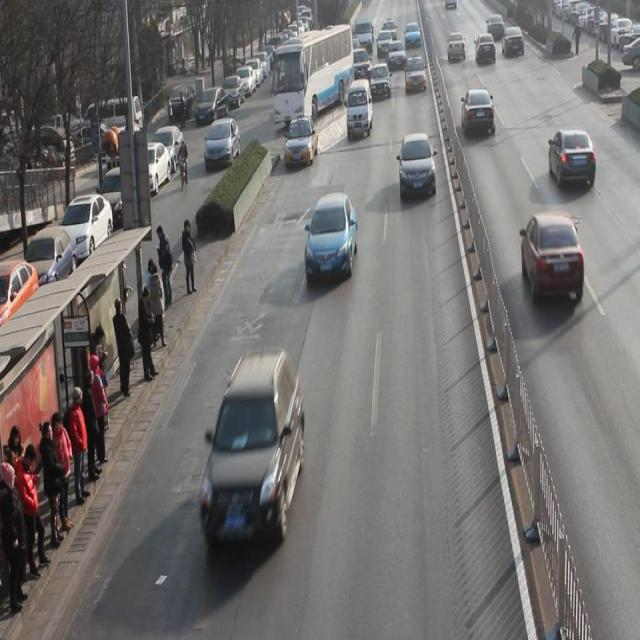car: (199, 353, 305, 554), (521, 212, 586, 304), (305, 192, 359, 284), (549, 129, 597, 190), (400, 133, 438, 200), (284, 118, 319, 170), (461, 90, 496, 136), (350, 47, 373, 87), (404, 56, 427, 95), (370, 63, 392, 102), (503, 25, 526, 58), (385, 41, 408, 73), (475, 33, 497, 66), (447, 32, 467, 64)
truck: (346, 79, 374, 141)
van: (272, 24, 355, 127)
